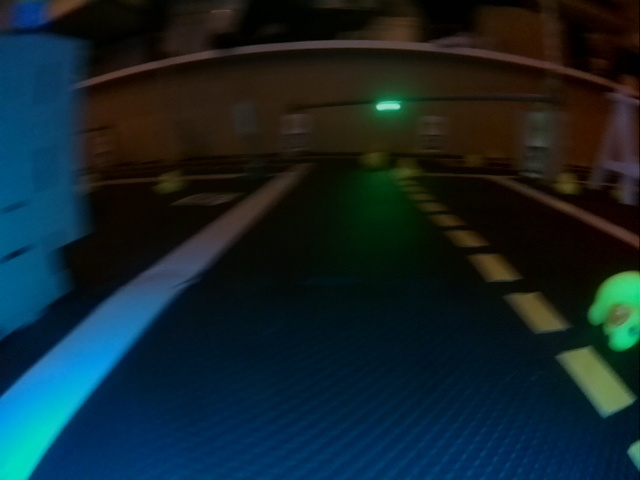Duckie: (589, 270, 638, 350), (154, 172, 182, 193), (555, 173, 581, 194), (363, 149, 387, 169), (397, 159, 420, 178)
QR code: (520, 144, 550, 179), (284, 132, 307, 151), (420, 135, 440, 151)
Traffic light: (374, 97, 401, 114)
